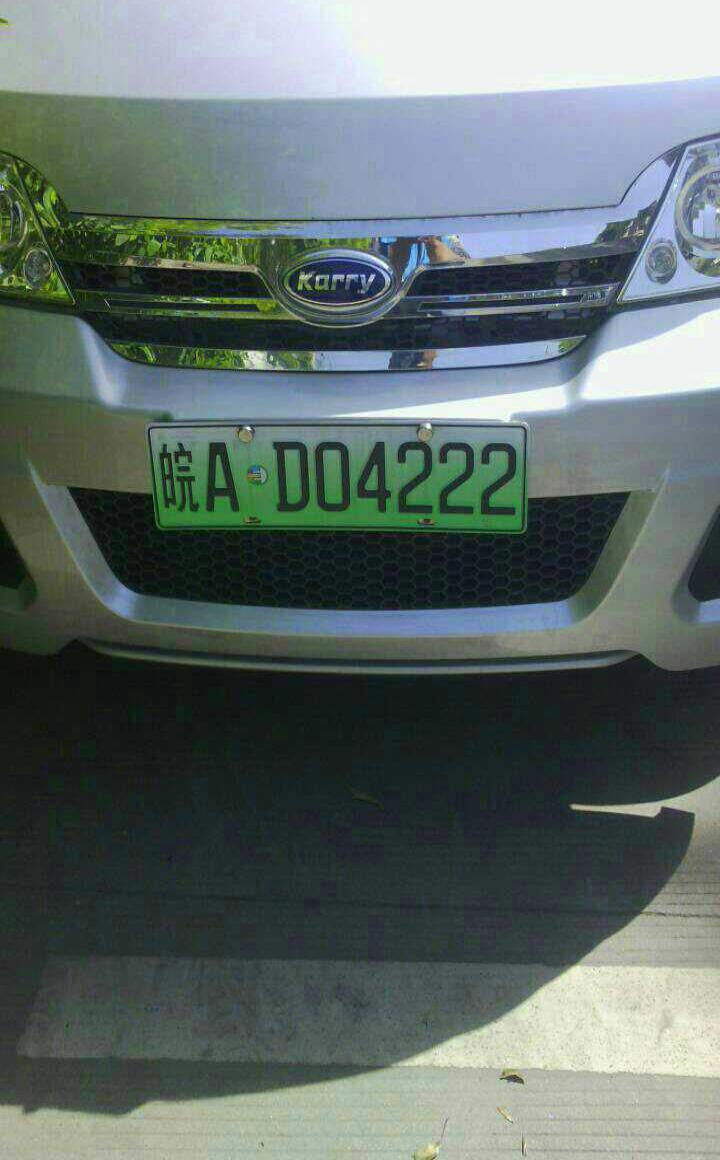car_id: (149, 425, 527, 527)
